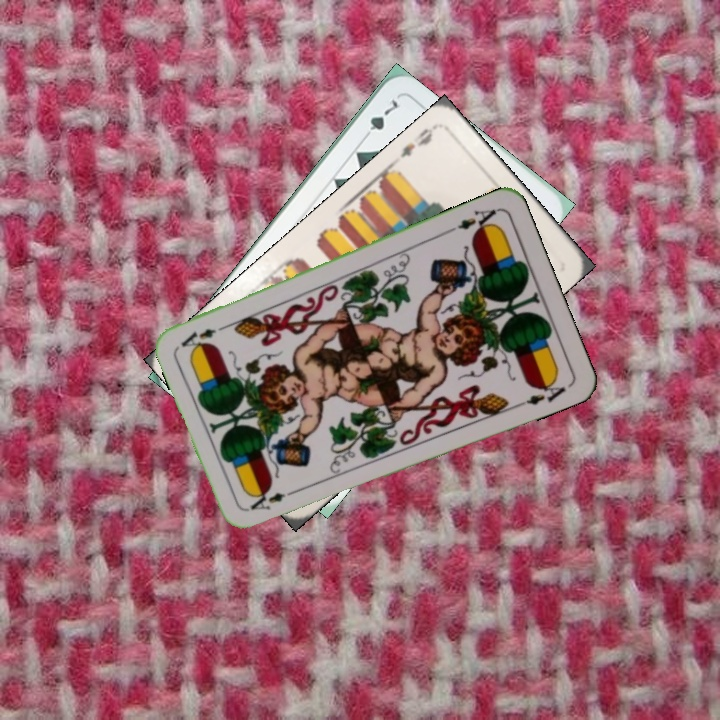E9: (396, 122, 439, 161)
EA: (453, 205, 501, 236), (246, 488, 288, 513)
G7: (357, 95, 401, 144)
